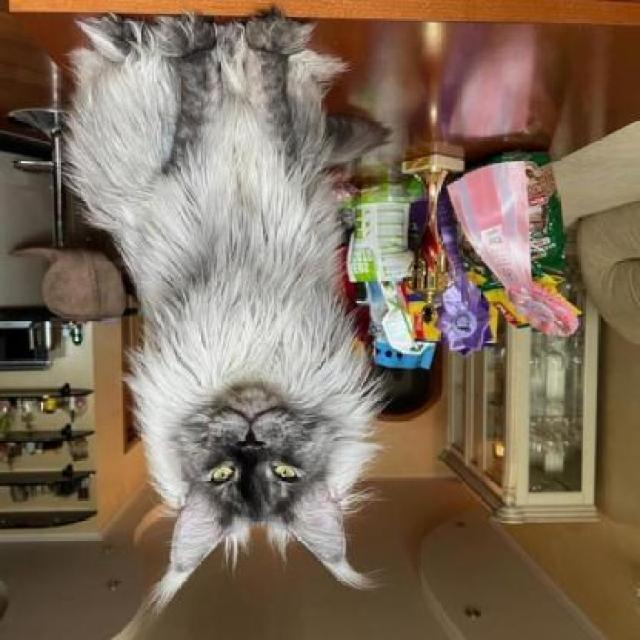cat: (103, 24, 377, 596)
